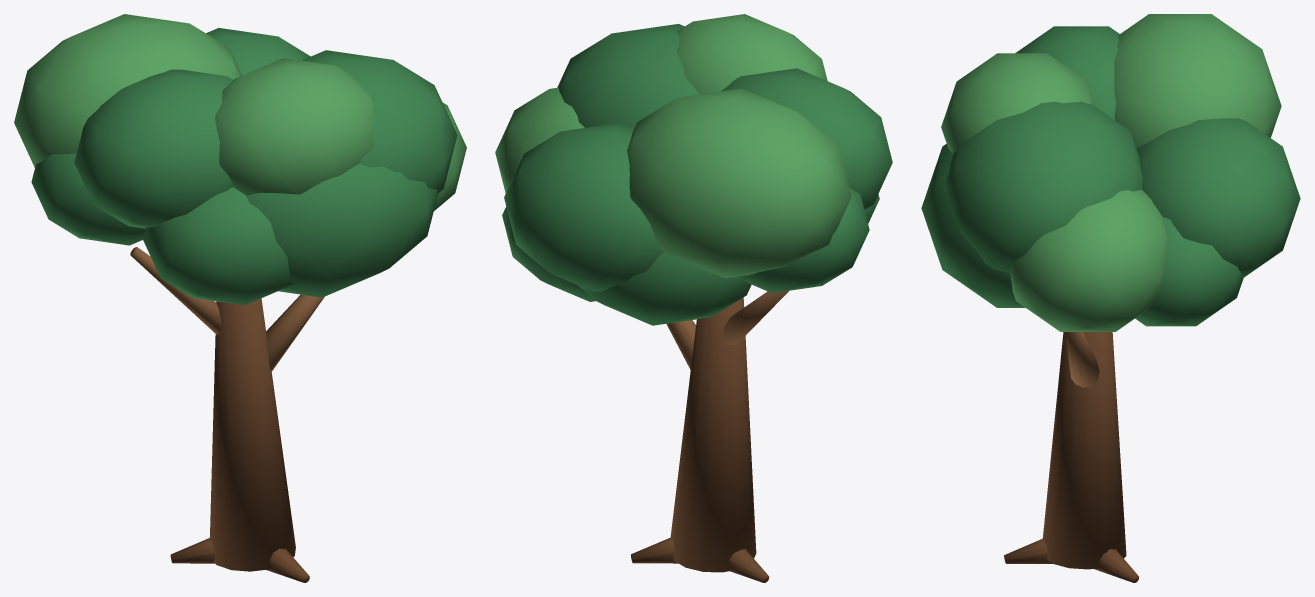
File: Realistic_Tree_B.fbx
The picture shows the model from 3 angles, left to right: view 1: azimuth 30°, elevation 25°; view 2: azimuth 150°, elevation 25°; view 3: azimuth 270°, elevation 25°; orthographic projection. The views are drawn at different scales.
Parts seen in each view (by area): view 1: Foliage.028, Trunk.005, Foliage.030, Foliage.031, Foliage.026, Foliage.029, Foliage.032, Foliage.027, Foliage.024, Trunk_Branch_A.001, Trunk_Branch_B.001, Foliage.022 (+2 smaller); view 2: Foliage.026, Foliage.024, Trunk.005, Foliage.032, Foliage.028, Foliage.030, Foliage.025, Foliage.027, Foliage.022, Trunk_Branch_B.001, Foliage.023, Trunk_Root_0.001 (+2 smaller); view 3: Foliage.032, Foliage.024, Foliage.026, Foliage.022, Trunk.005, Foliage.030, Foliage.023, Foliage.031, Foliage.028, Trunk_Branch_A.001, Trunk_Root_0.001, Trunk_Root_2.001.
Boxes of the visible parts, box(x1,y1,x2,y2) form: Foliage.028: box(74, 69, 233, 228); Trunk.005: box(210, 298, 295, 571); Foliage.030: box(215, 58, 374, 195); Foliage.031: box(245, 164, 437, 297); Foliage.026: box(14, 14, 241, 167); Foliage.029: box(143, 187, 294, 305); Foliage.032: box(302, 50, 457, 193); Foliage.027: box(31, 153, 145, 245); Foliage.024: box(206, 28, 310, 75); Trunk_Branch_A.001: box(266, 294, 324, 371); Trunk_Branch_B.001: box(130, 247, 221, 334); Foliage.022: box(433, 102, 466, 211); Foliage.026: box(627, 88, 851, 278); Foliage.024: box(504, 123, 664, 291); Trunk.005: box(670, 297, 756, 572); Foliage.032: box(557, 24, 698, 128); Foliage.028: box(721, 68, 892, 209); Foliage.030: box(676, 14, 827, 94); Foliage.025: box(578, 252, 751, 325); Foliage.027: box(740, 188, 869, 292); Foliage.022: box(495, 87, 584, 193); Trunk_Branch_B.001: box(722, 291, 788, 345); Foliage.023: box(502, 206, 595, 301); Trunk_Root_0.001: box(631, 537, 678, 563); Foliage.032: box(945, 101, 1142, 273); Foliage.024: box(1136, 118, 1300, 277); Foliage.026: box(1114, 14, 1281, 148); Foliage.022: box(1010, 189, 1167, 331); Trunk.005: box(1042, 332, 1126, 569); Foliage.030: box(941, 53, 1095, 153); Foliage.023: box(1135, 216, 1243, 326); Foliage.031: box(921, 144, 1025, 307); Foliage.028: box(1015, 26, 1119, 119); Trunk_Branch_A.001: box(1065, 332, 1099, 387); Trunk_Root_0.001: box(1094, 549, 1138, 582); Trunk_Root_2.001: box(1004, 538, 1052, 563).
Bounding box in the file's own units: 2.39 × 3.12 × 2.12.
